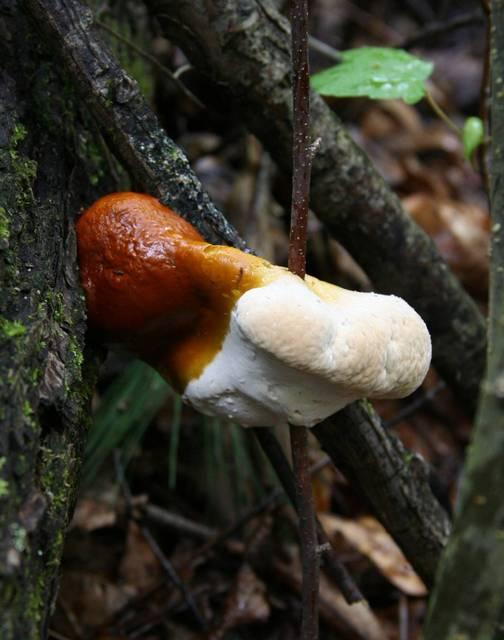Non-edible Mushroom: (73, 188, 434, 432)
